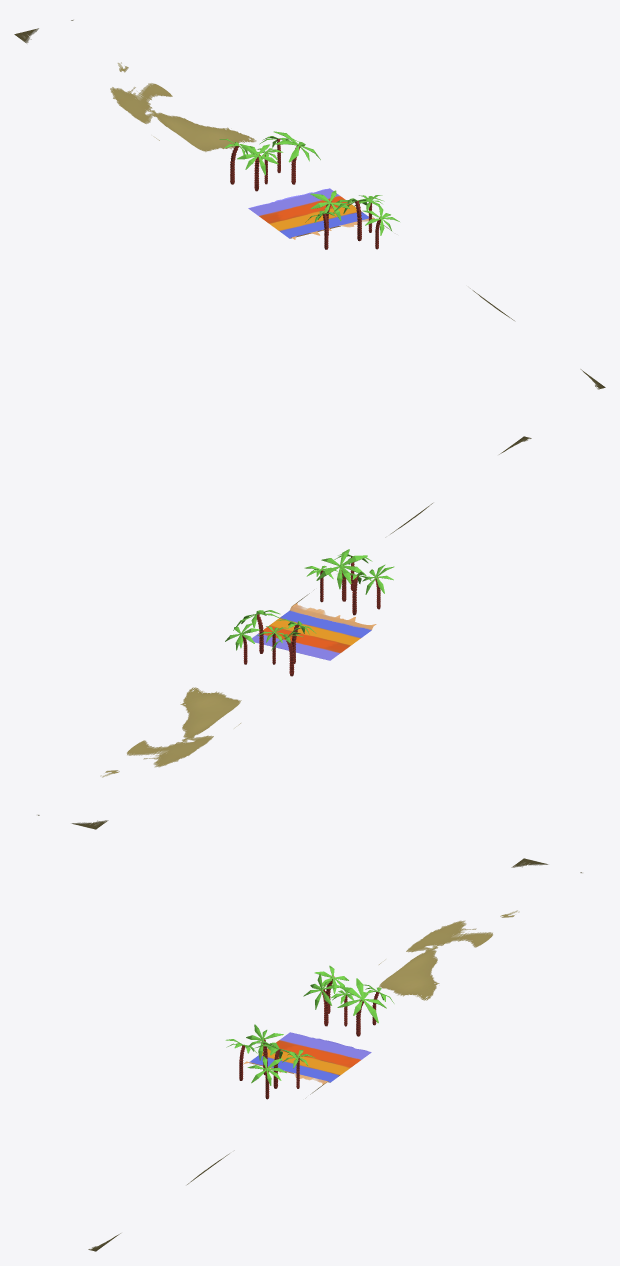
Rendered from forestPart2.fbx.
3 renders of one model, top to bottom at view 1: azimuth 30°, elevation 25°; view 2: azimuth 150°, elevation 25°; view 3: azimuth 330°, elevation 25°, orthographic.
Visible parts, largest first — view 1: forestPart2; view 2: forestPart2; view 3: forestPart2.
Part boxes in pixels (<box>): forestPart2: <box>14,19,605,389</box>; forestPart2: <box>37,436,531,829</box>; forestPart2: <box>88,858,582,1251</box>.
Size of the model in its own units: 1675 by 983 by 18053.
